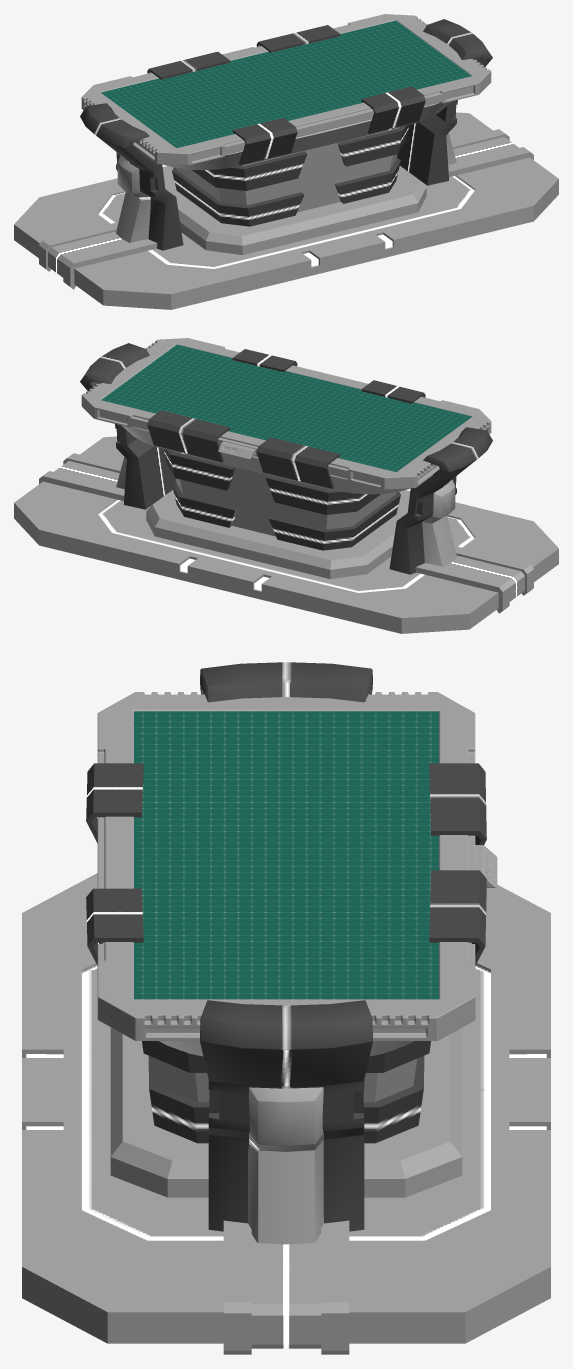
File: Physics Table.fbx
The picture shows the model from 3 angles, top to bottom: view 1: azimuth 30°, elevation 25°; view 2: azimuth 150°, elevation 25°; view 3: azimuth 270°, elevation 25°; orthographic projection. The views are drawn at different scales.
Parts seen in each view (by area): view 1: Table_base, Top; view 2: Table_base, Top; view 3: Table_base, Top.
Part boxes in pixels (box(x1,y1,x2,y2)): Table_base: box(14, 19, 558, 309); Top: box(81, 14, 491, 165); Table_base: box(14, 343, 558, 633); Top: box(81, 338, 491, 489); Table_base: box(22, 662, 550, 1354); Top: box(97, 692, 497, 1040).
Size of the model in its own units: 200 by 59.46 by 98.78.
Materials: 2 (2 with a texture image).
